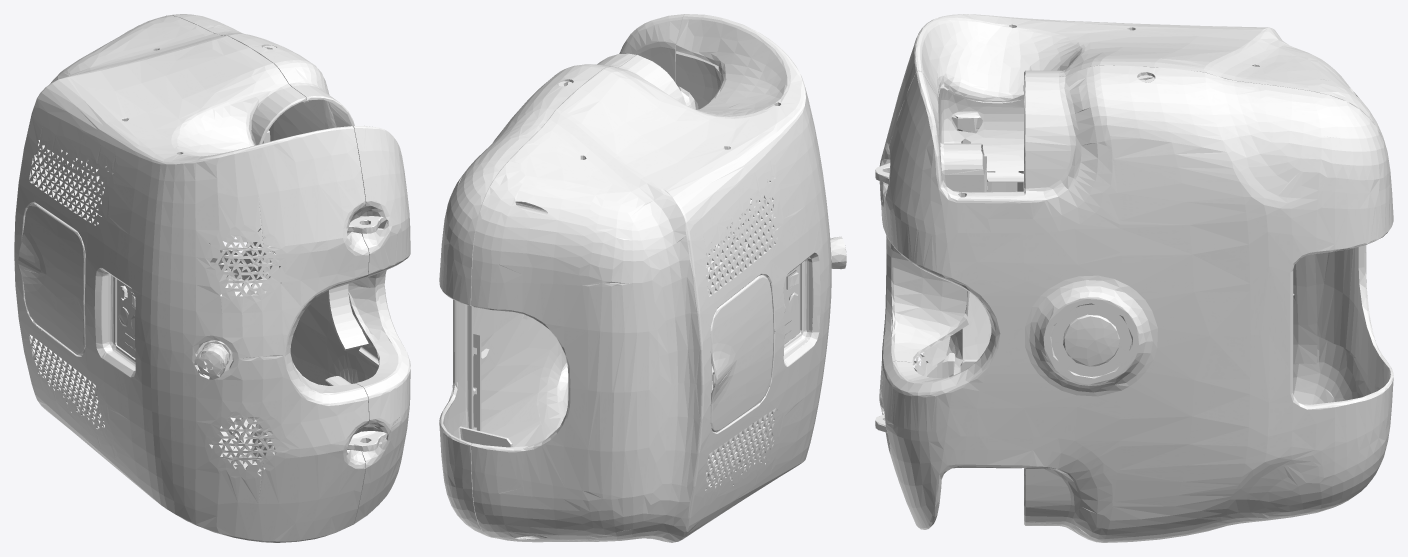
Rendered from torso_2.dae.
The picture shows the model from 3 angles, left to right: view 1: azimuth 30°, elevation 25°; view 2: azimuth 150°, elevation 25°; view 3: azimuth 270°, elevation 25°; orthographic projection. The views are drawn at different scales.
Visible parts, largest first — view 1: node; view 2: node; view 3: node.
Boxes of the visible parts, bbox=[...] form: node: bbox=[14, 14, 410, 542]; node: bbox=[439, 14, 846, 542]; node: bbox=[875, 14, 1393, 542].
Size of the model in its own units: 0.3054 by 0.4544 by 0.4581.
Materials: 1 (1 with a texture image).
